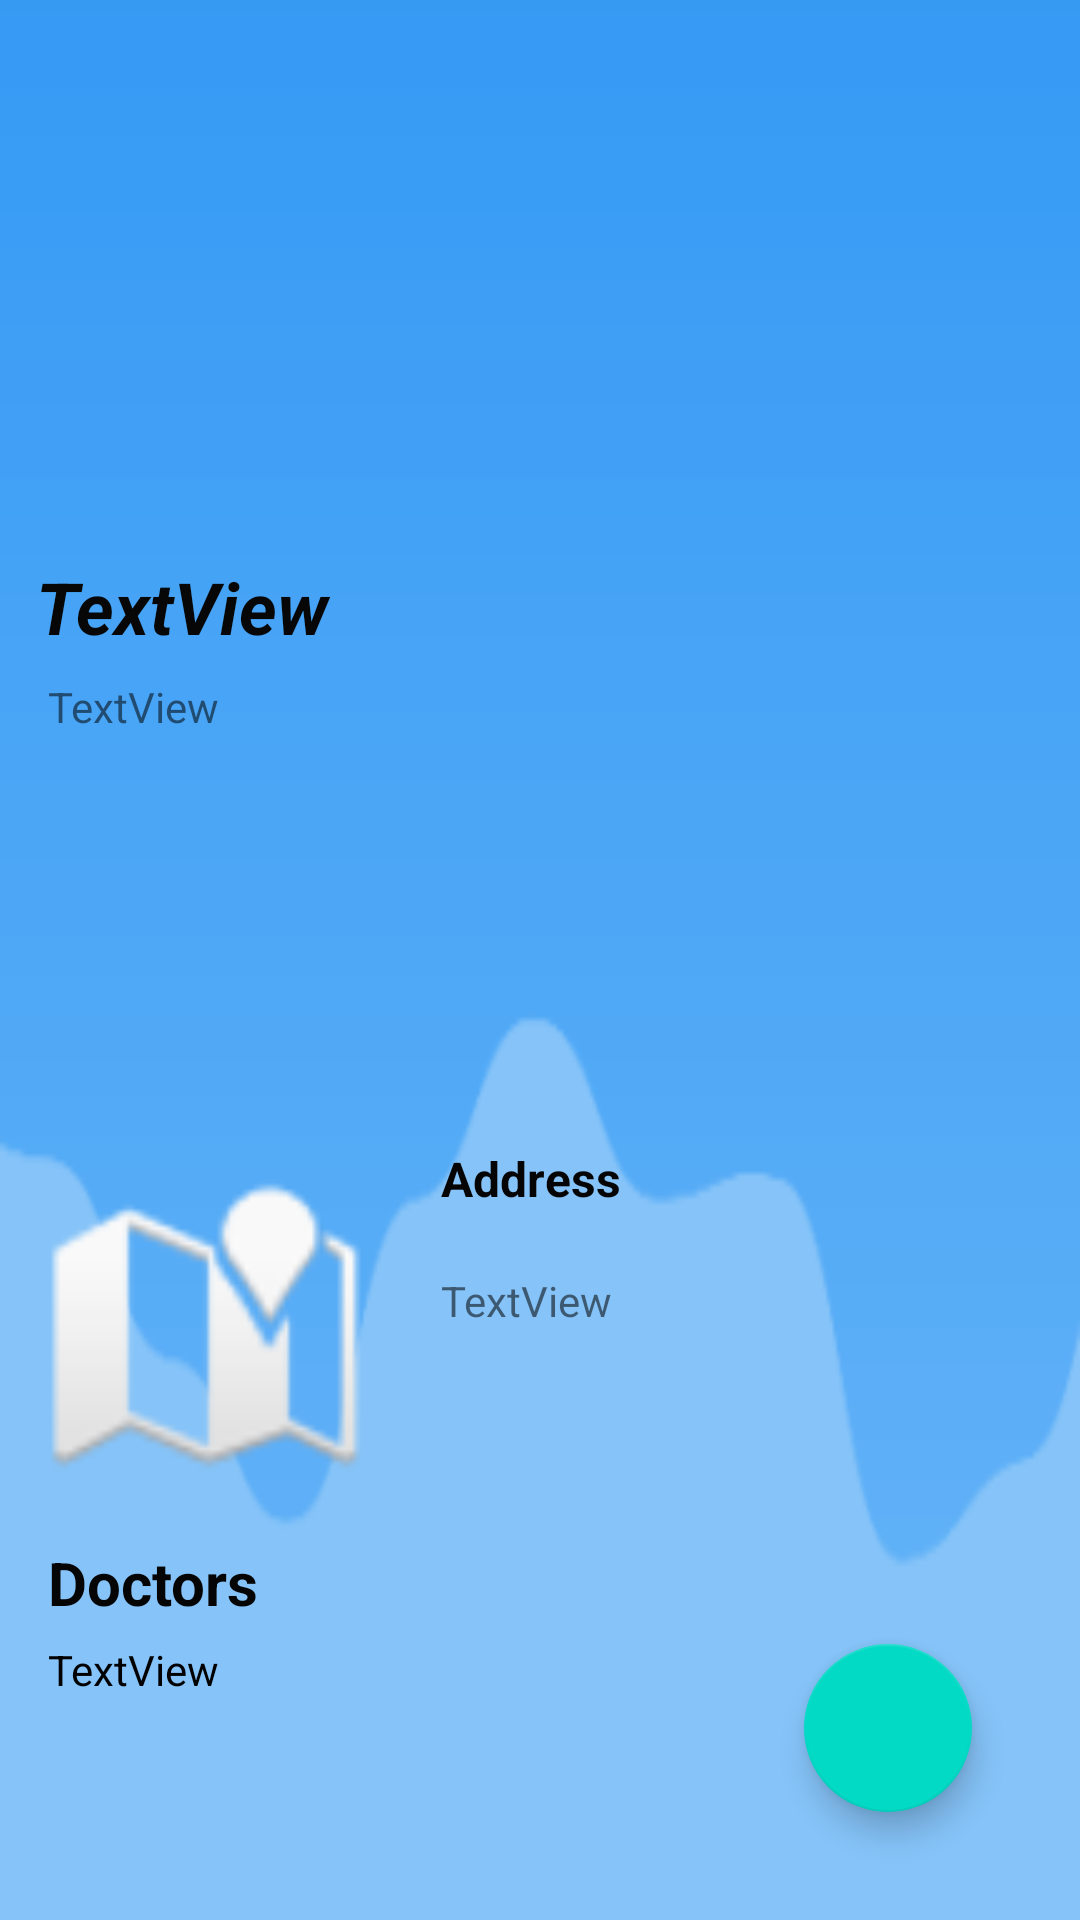

Icon bounding boxes for this 1080px×1920px phone screenshot, format rect(x1, y1, x2, y2):
map: rect(48, 1146, 369, 1506)
